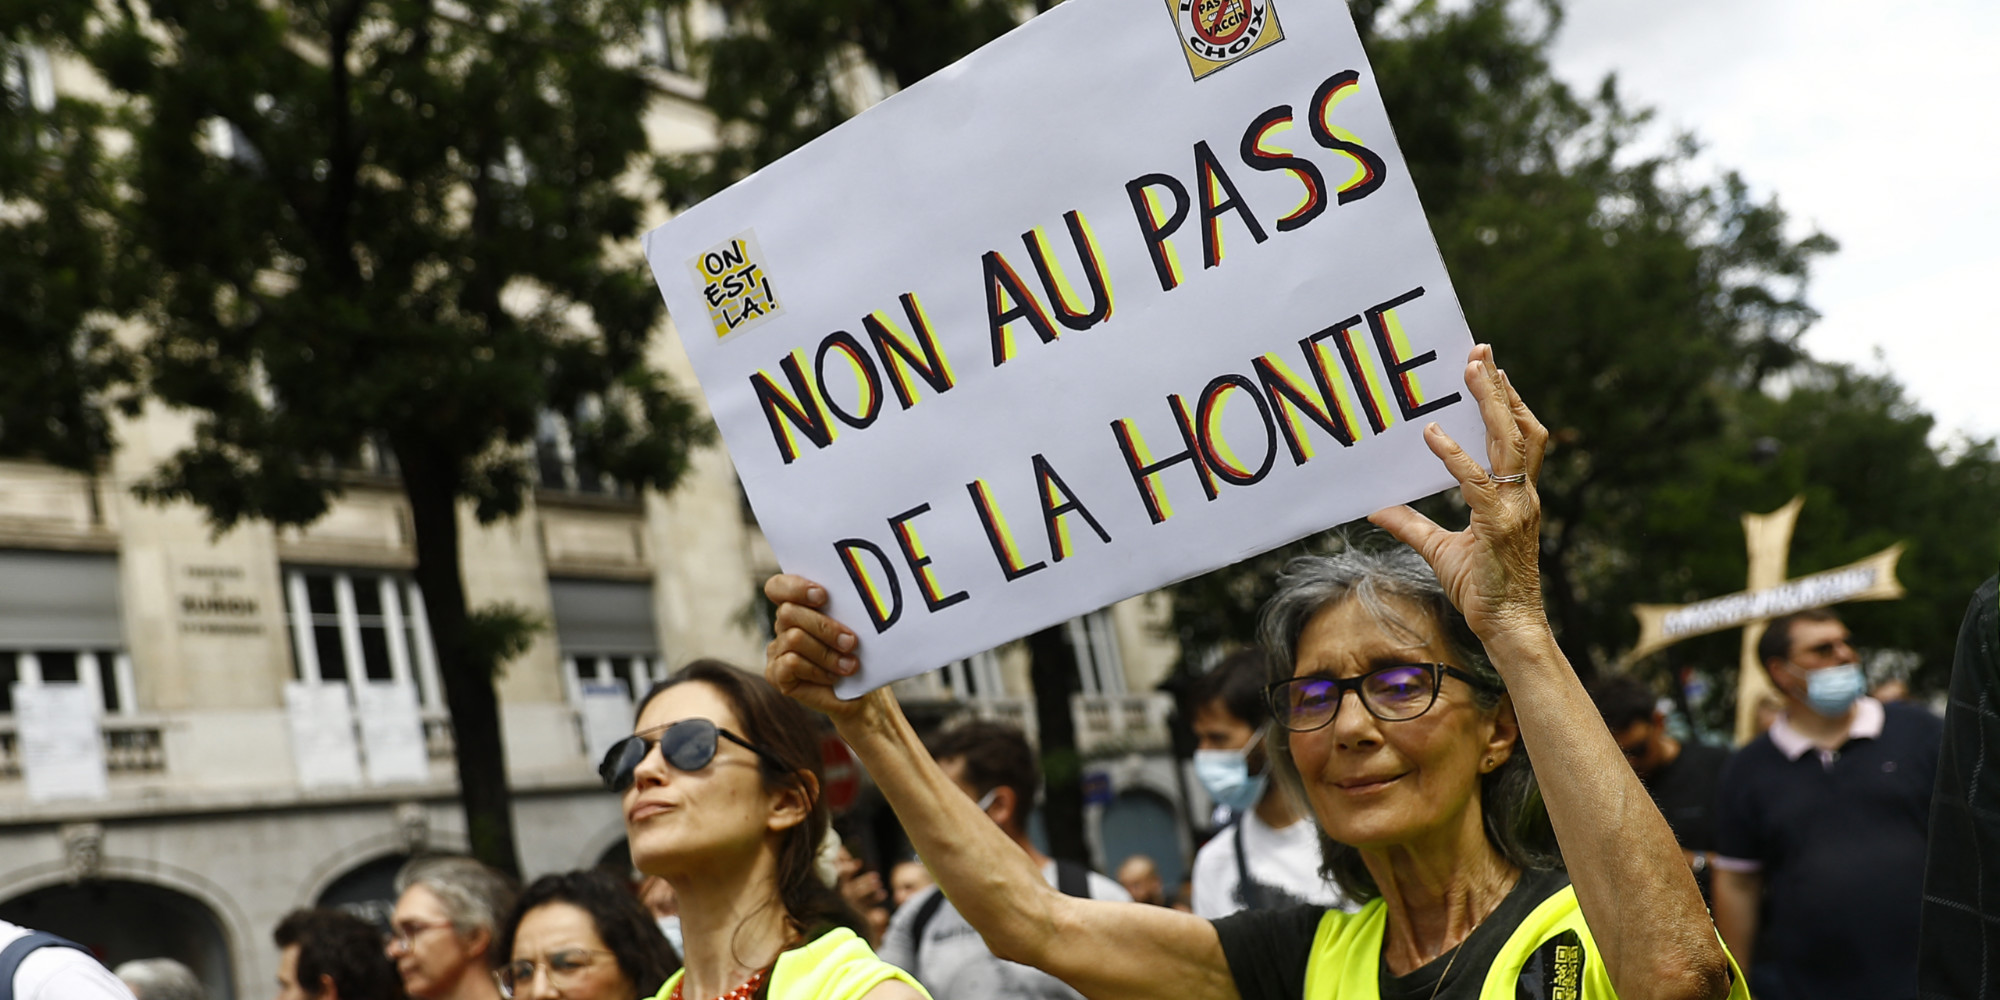with_incorrect_mask: (1758, 616, 1879, 716)
without_mask: (1267, 633, 1510, 846), (597, 718, 801, 877)
